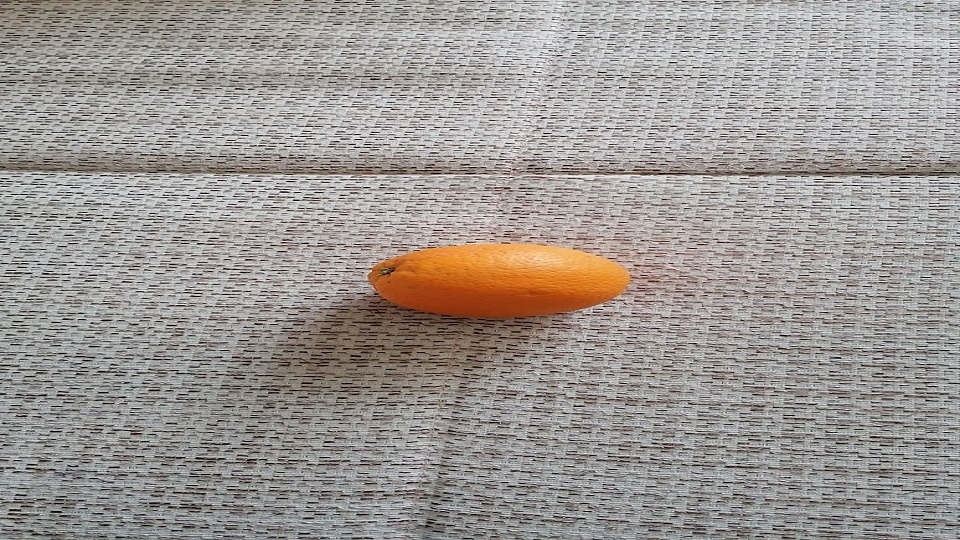portakal: (367, 241, 632, 320)
